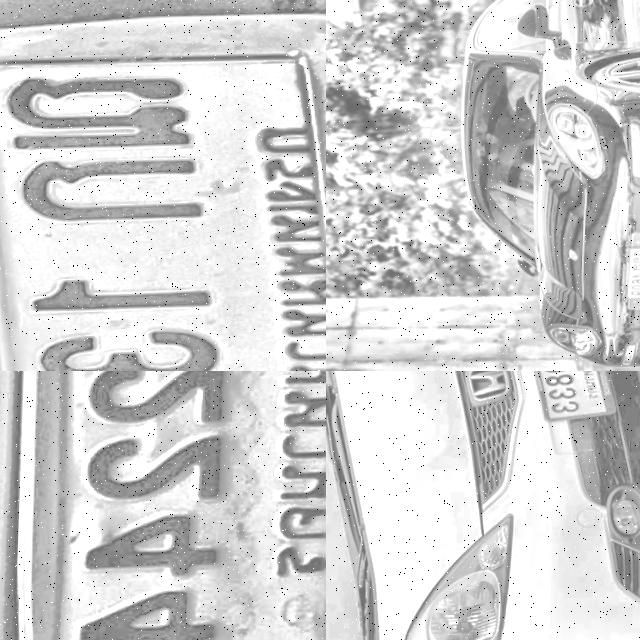license-plate: (0, 0, 326, 371), (0, 371, 326, 640), (514, 371, 624, 430), (619, 245, 640, 309)
